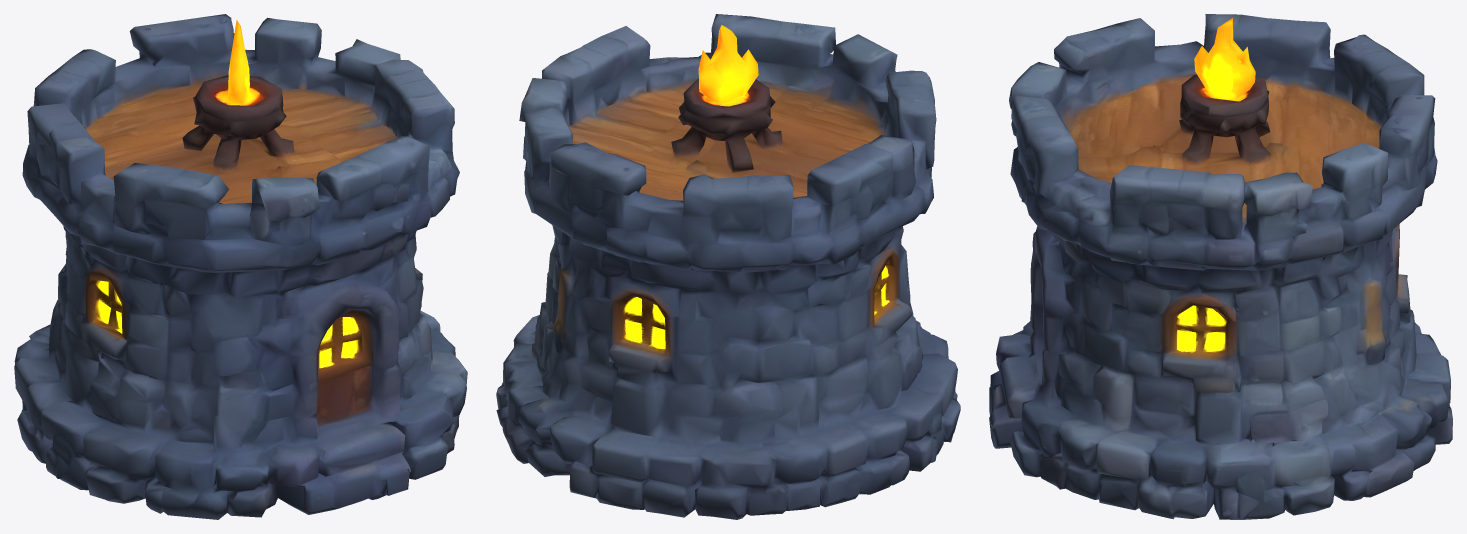
The model's file is camp_tower-DYgmInRl.glb.
3 views of the same model, side by side, from view 1: azimuth 30°, elevation 25°; view 2: azimuth 150°, elevation 25°; view 3: azimuth 270°, elevation 25° (orthographic).
Parts seen in each view (by area): view 1: tripo_node_3c7c94be-24a3-4a0e-a024-1497efa2628a; view 2: tripo_node_3c7c94be-24a3-4a0e-a024-1497efa2628a; view 3: tripo_node_3c7c94be-24a3-4a0e-a024-1497efa2628a.
Part boxes in pixels (<box>): tripo_node_3c7c94be-24a3-4a0e-a024-1497efa2628a: <box>14,14,467,519</box>; tripo_node_3c7c94be-24a3-4a0e-a024-1497efa2628a: <box>496,14,960,519</box>; tripo_node_3c7c94be-24a3-4a0e-a024-1497efa2628a: <box>989,14,1452,519</box>.
Bounding box in the file's own units: 0.9974 × 0.9791 × 1.
Materials: 1 (1 with a texture image).
